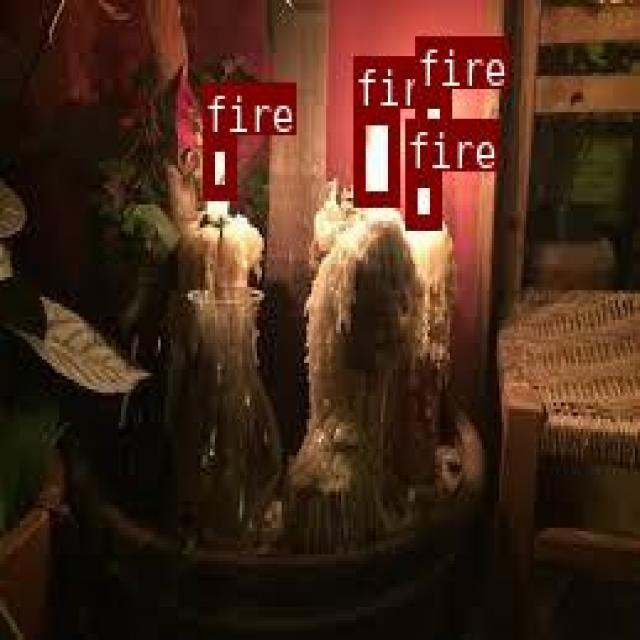fire: (353, 107, 398, 203), (201, 133, 234, 195), (405, 170, 439, 225), (413, 88, 448, 132)
